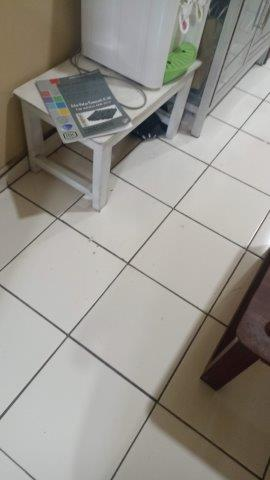kertas: (35, 69, 133, 147)
